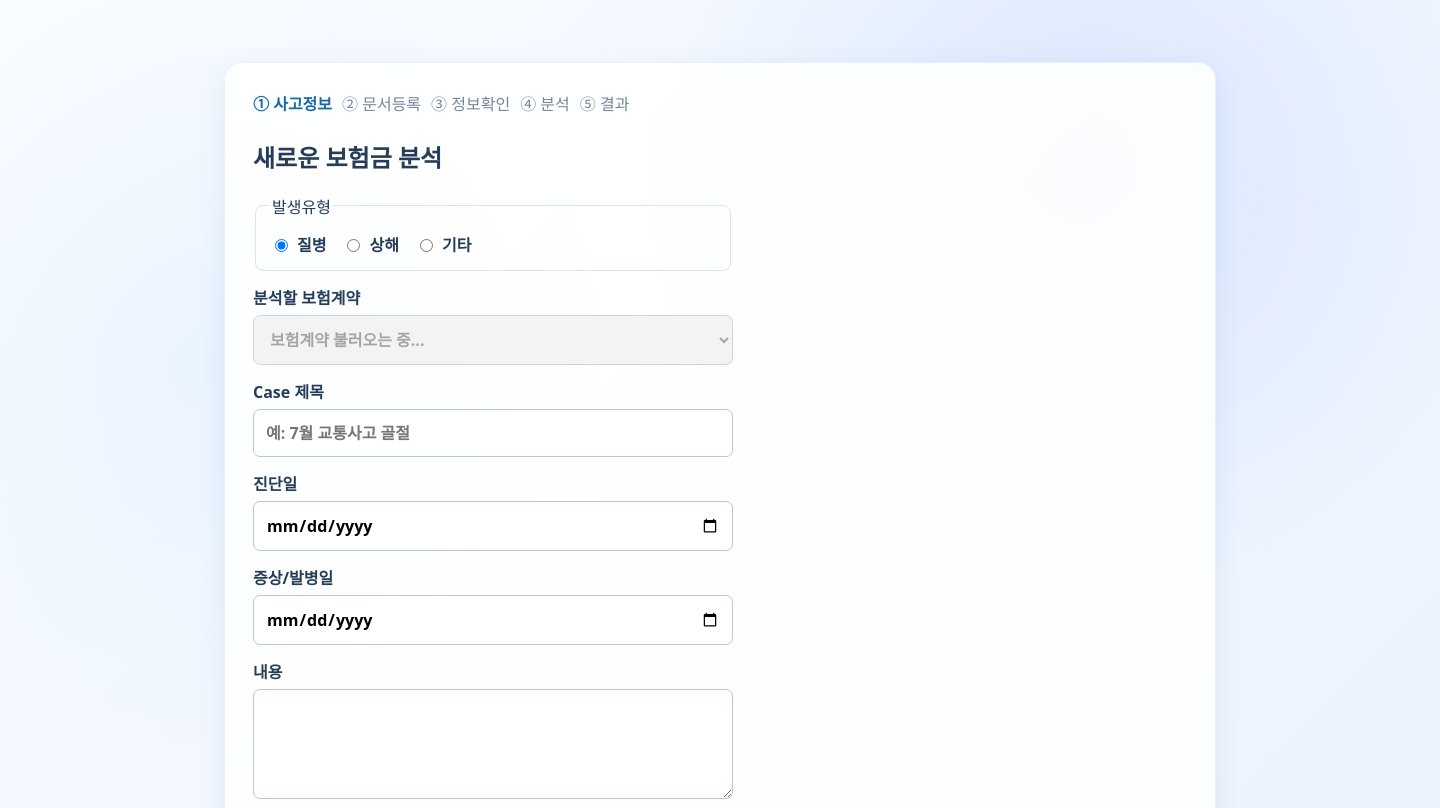
Test: branches between disease and injury accident fields
Expected: the date field labelled "진단일" is shown, [253, 501, 733, 551]
Click the radio button labelled "상해" at (354, 245), box [348, 239, 360, 252]
(page scrolled)
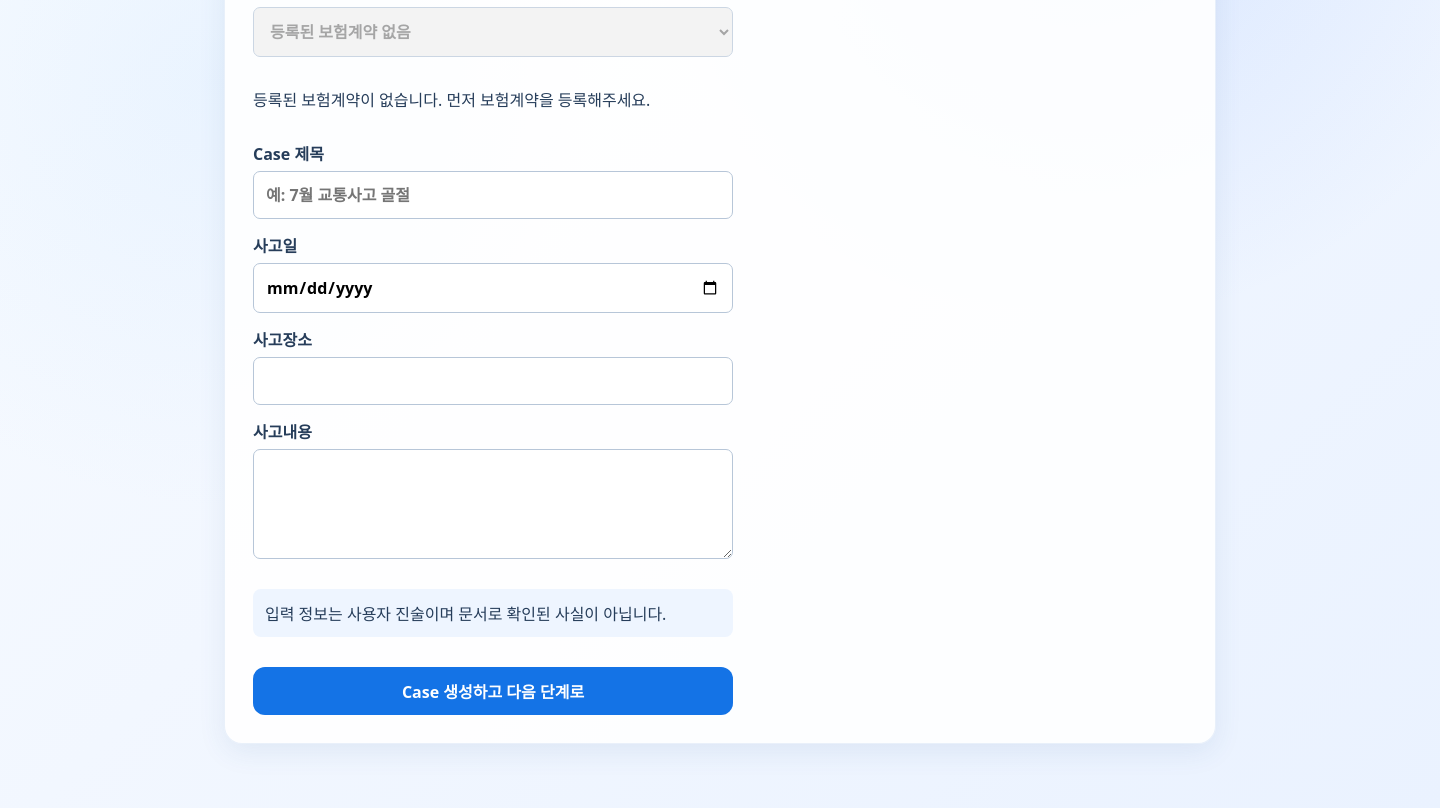
Expected: the text "입력 정보는 사용자 진술이며 문서로 확인된 사실이 아닙니다." is shown, [253, 589, 733, 637]
Expected: the date field labelled "사고일" is shown, [253, 263, 733, 313]
Expected: the label labelled "진단일" is gone
